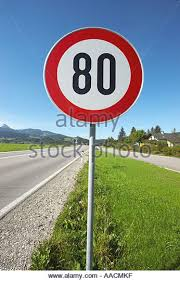Speed_limit_80km: (42, 27, 144, 122)
